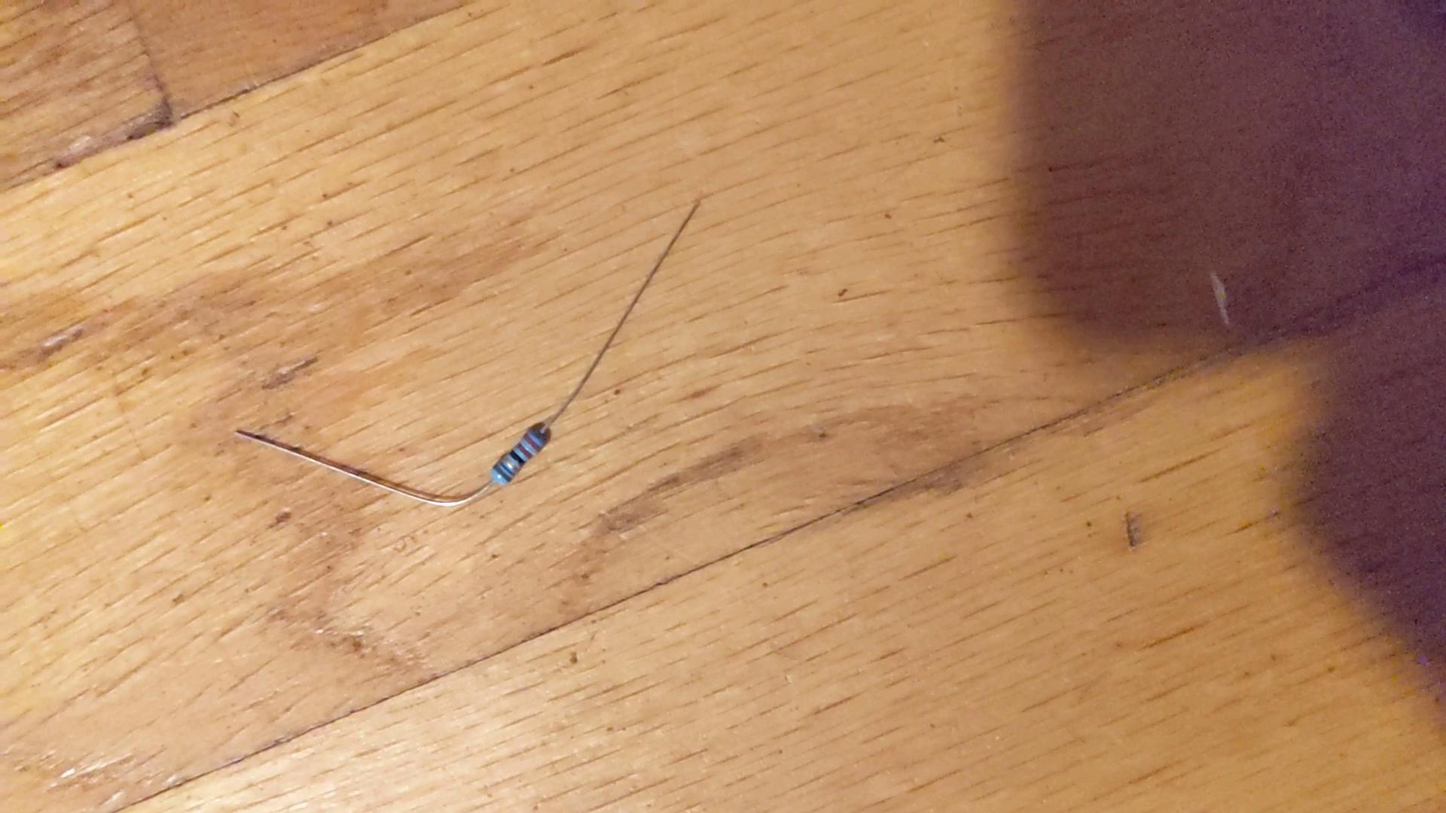resistor: (489, 423, 551, 487)
